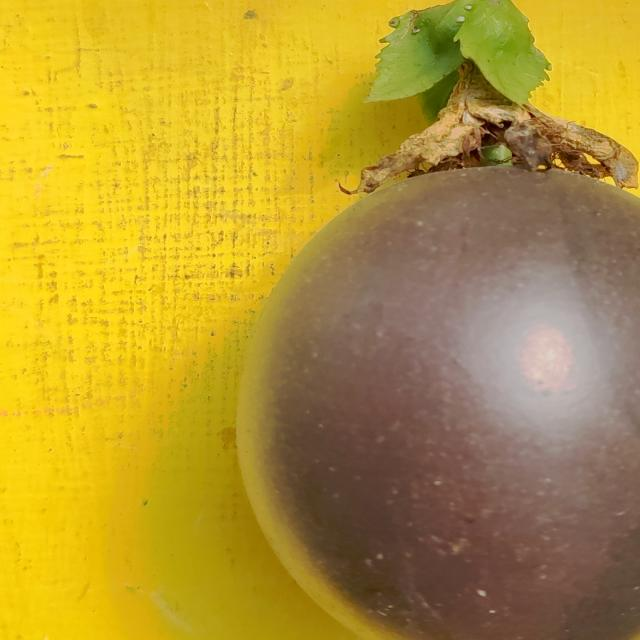Estado-6: (255, 0, 640, 640)
